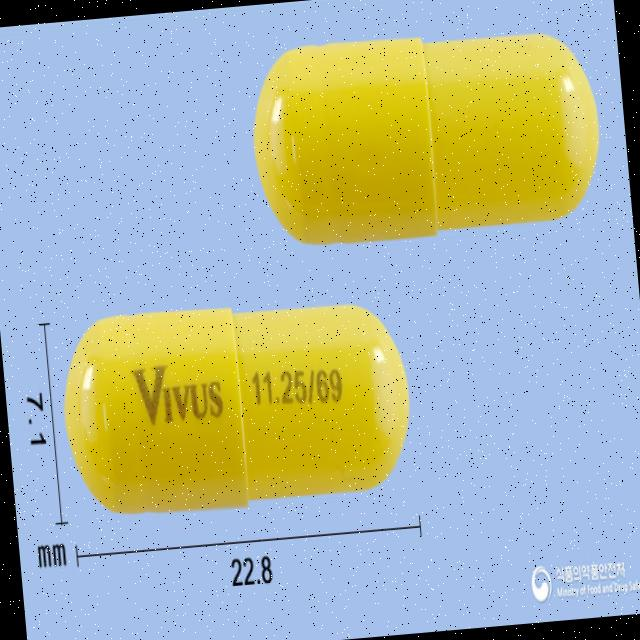Qsymia Cap: (246, 15, 608, 255), (53, 286, 420, 521)
